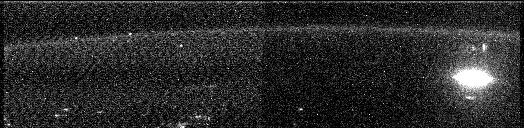positive: (464, 41, 491, 58)
